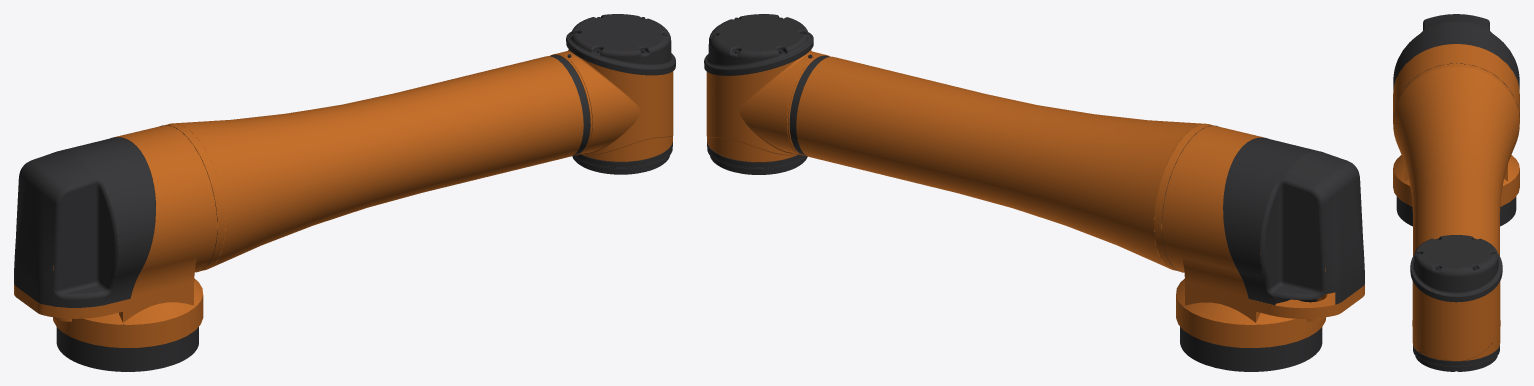
3 views of the same model, side by side, from view 1: azimuth 30°, elevation 25°; view 2: azimuth 150°, elevation 25°; view 3: azimuth 270°, elevation 25° (orthographic). The views are drawn at different scales.
Parts seen in each view (by area): view 1: NONE-DC_Shell_ncl1_6, NONE-DC_Shell_ncl1_17, NONE-DC_Shell_ncl1_7, NONE-DC_Shell_ncl1_11, NONE-DC_Shell_ncl1_15, NONE-DC_Shell_ncl1_3, NONE-DC_Shell_ncl1_19, NONE-DC_Shell_ncl1_18; view 2: NONE-DC_Shell_ncl1_6, NONE-DC_Shell_ncl1_17, NONE-DC_Shell_ncl1_7, NONE-DC_Shell_ncl1_11, NONE-DC_Shell_ncl1_15, NONE-DC_Shell_ncl1_3, NONE-DC_Shell_ncl1_19, NONE-DC_Shell_ncl1_18; view 3: NONE-DC_Shell_ncl1_6, NONE-DC_Shell_ncl1_11, NONE-DC_Shell_ncl1_15, NONE-DC_Shell_ncl1_7, NONE-DC_Shell_ncl1_17, NONE-DC_Shell_ncl1_19, NONE-DC_Shell_ncl1_3.
Part boxes in pixels (box(x1,y1,x2,y2)): NONE-DC_Shell_ncl1_6: box(166, 56, 583, 270); NONE-DC_Shell_ncl1_17: box(14, 137, 155, 307); NONE-DC_Shell_ncl1_7: box(14, 125, 217, 347); NONE-DC_Shell_ncl1_11: box(556, 38, 673, 161); NONE-DC_Shell_ncl1_15: box(566, 14, 675, 75); NONE-DC_Shell_ncl1_3: box(56, 327, 198, 371); NONE-DC_Shell_ncl1_19: box(572, 123, 672, 174); NONE-DC_Shell_ncl1_18: box(550, 55, 590, 154); NONE-DC_Shell_ncl1_6: box(796, 56, 1213, 270); NONE-DC_Shell_ncl1_17: box(1223, 137, 1364, 305); NONE-DC_Shell_ncl1_7: box(1162, 125, 1364, 347); NONE-DC_Shell_ncl1_11: box(706, 40, 822, 162); NONE-DC_Shell_ncl1_15: box(704, 14, 813, 75); NONE-DC_Shell_ncl1_3: box(1180, 297, 1322, 371); NONE-DC_Shell_ncl1_19: box(707, 126, 807, 174); NONE-DC_Shell_ncl1_18: box(789, 55, 829, 155); NONE-DC_Shell_ncl1_6: box(1393, 63, 1519, 289); NONE-DC_Shell_ncl1_11: box(1412, 259, 1500, 361); NONE-DC_Shell_ncl1_15: box(1410, 235, 1502, 302); NONE-DC_Shell_ncl1_7: box(1393, 44, 1519, 206); NONE-DC_Shell_ncl1_17: box(1393, 14, 1519, 89); NONE-DC_Shell_ncl1_19: box(1413, 343, 1499, 371); NONE-DC_Shell_ncl1_3: box(1396, 196, 1516, 226).
Bounding box in the file's own units: 1.3 × 0.265 × 0.3901.
